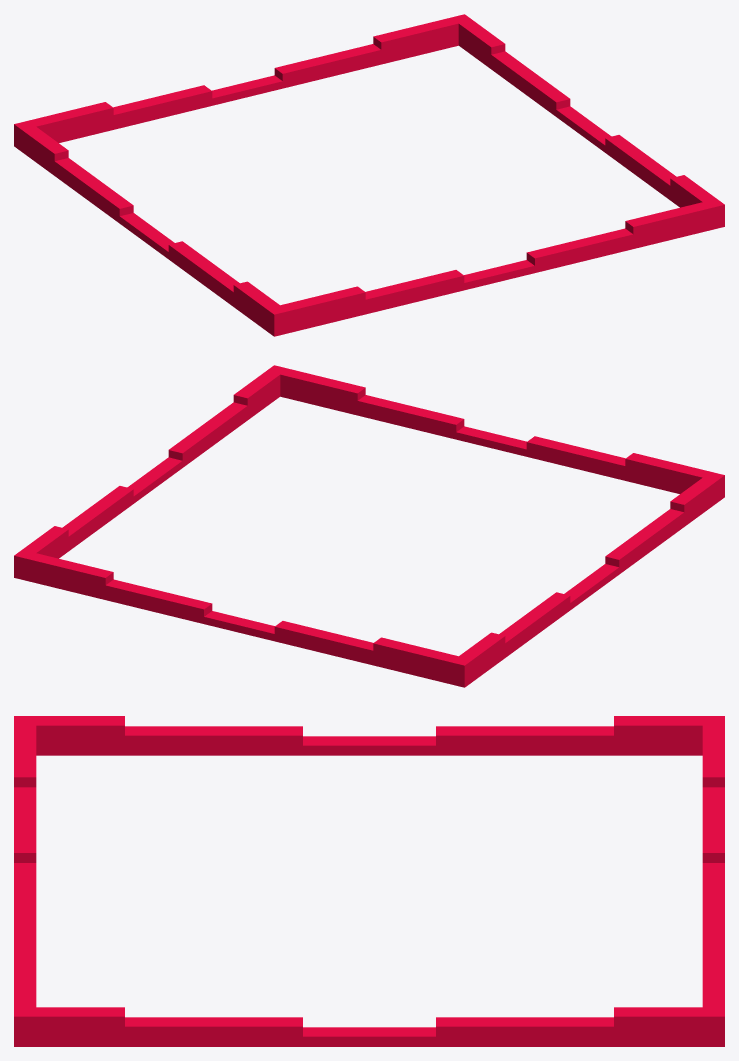
Rendered from towerSlice7.obj.
The picture shows the model from 3 angles, top to bottom: view 1: azimuth 30°, elevation 25°; view 2: azimuth 150°, elevation 25°; view 3: azimuth 270°, elevation 25°; orthographic projection. The views are drawn at different scales.
Size of the model in its own units: 6.4 by 0.3 by 6.4.
